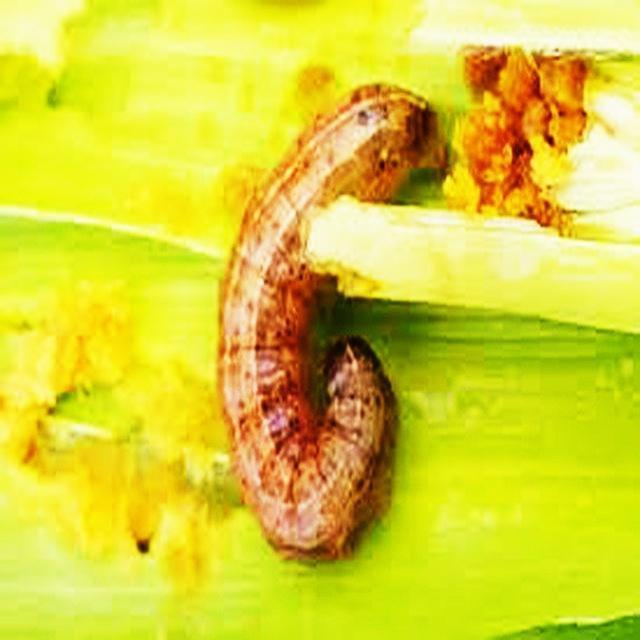gusano_cogollero: (212, 78, 448, 569)
